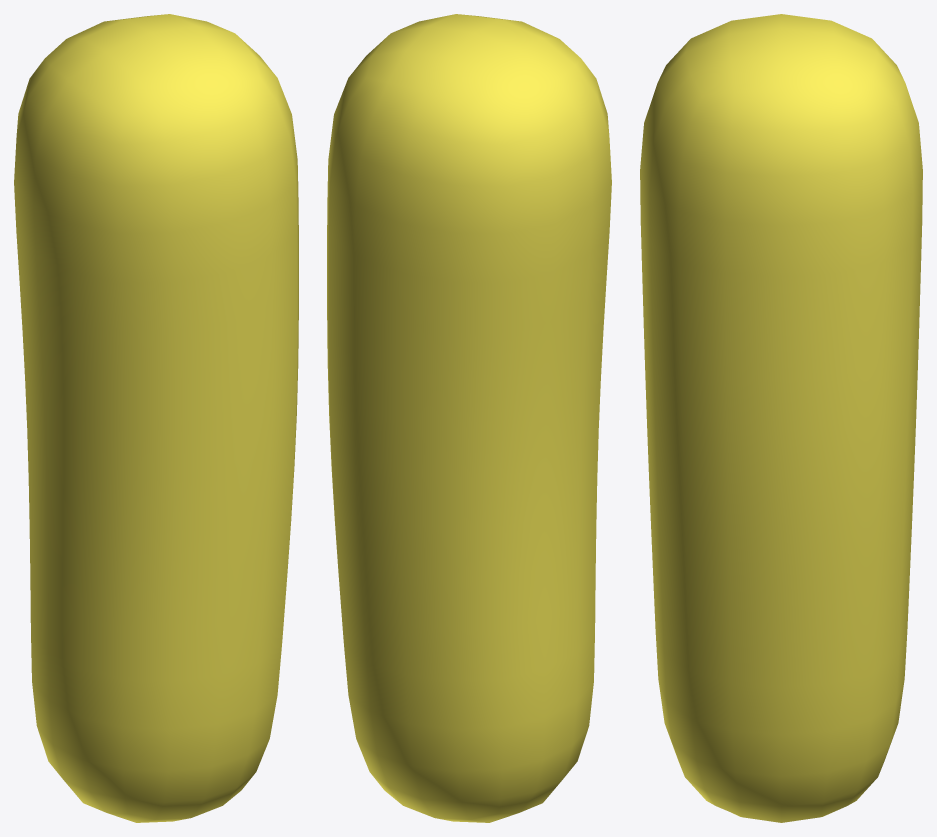
File: SM_Partygoer_UpperArm.fbx
3 renders of one model, left to right at view 1: azimuth 30°, elevation 25°; view 2: azimuth 150°, elevation 25°; view 3: azimuth 270°, elevation 25°, orthographic.
Visible parts, largest first — view 1: SM_Partygoer_UpperArm; view 2: SM_Partygoer_UpperArm; view 3: SM_Partygoer_UpperArm.
Part boxes in pixels (x1,y1,x2,y2): SM_Partygoer_UpperArm: [14, 14, 298, 822]; SM_Partygoer_UpperArm: [327, 14, 611, 822]; SM_Partygoer_UpperArm: [640, 14, 922, 822].
Bounding box in the file's own units: 8.89 × 26.89 × 8.84.
